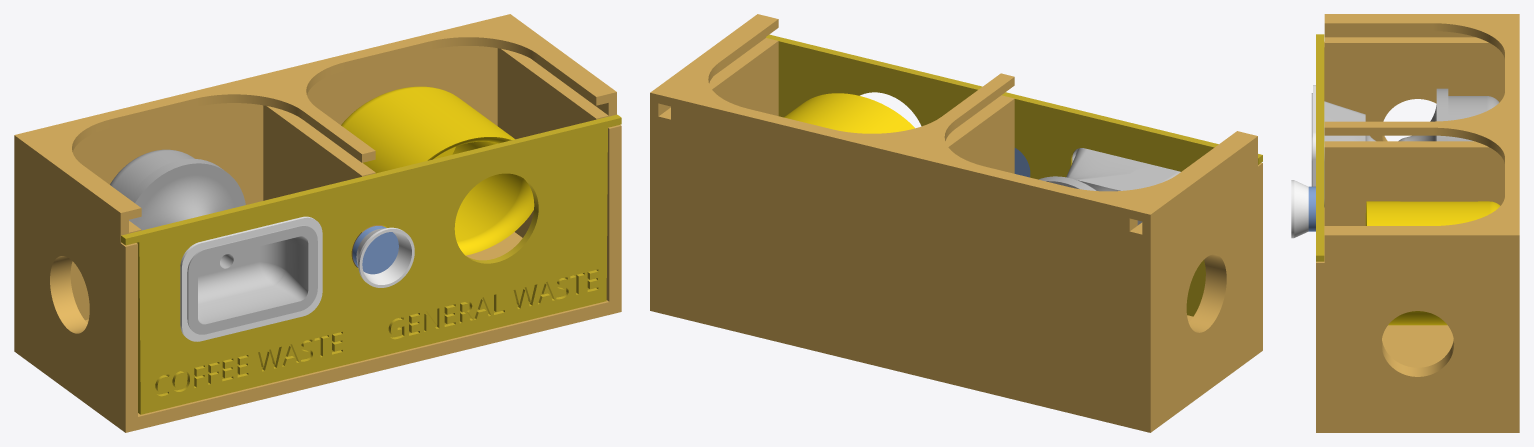
Rendered from BenneDosa_test.gltf.
The picture shows the model from 3 angles, left to right: view 1: azimuth 30°, elevation 25°; view 2: azimuth 150°, elevation 25°; view 3: azimuth 270°, elevation 25°; orthographic projection. The views are drawn at different scales.
Visible parts, largest first — view 1: benne_base, top_surface_V3, dustbin_general, sink_v3, coffee_dustbin_lid, Part 6, Part 5, coffee_dustbin_base_v2, Part 4; view 2: benne_base, top_surface_V3, dustbin_general, sink_v3; view 3: benne_base, dustbin_general, top_surface_V3, sink_v3, coffee_dustbin_base_v2, Part 5, coffee_dustbin_lid, Part 4, Part 6.
Part boxes in pixels (left/top/right/bottom): benne_base: left=14, top=14, right=621, bottom=432; top_surface_V3: left=121, top=114, right=621, bottom=414; dustbin_general: left=341, top=86, right=534, bottom=255; sink_v3: left=187, top=225, right=317, bottom=334; coffee_dustbin_lid: left=129, top=158, right=245, bottom=230; Part 6: left=180, top=216, right=322, bottom=341; Part 5: left=356, top=227, right=414, bottom=287; coffee_dustbin_base_v2: left=110, top=149, right=194, bottom=198; Part 4: left=352, top=226, right=398, bottom=274; benne_base: left=650, top=14, right=1262, bottom=432; top_surface_V3: left=766, top=34, right=1262, bottom=316; dustbin_general: left=784, top=93, right=914, bottom=133; sink_v3: left=1066, top=148, right=1180, bottom=225; benne_base: left=1316, top=14, right=1519, bottom=432; dustbin_general: left=1365, top=201, right=1499, bottom=325; top_surface_V3: left=1316, top=34, right=1324, bottom=261; sink_v3: left=1311, top=93, right=1375, bottom=207; coffee_dustbin_base_v2: left=1448, top=96, right=1499, bottom=141; Part 5: left=1291, top=180, right=1308, bottom=238; coffee_dustbin_lid: left=1398, top=88, right=1448, bottom=141; Part 4: left=1308, top=186, right=1315, bottom=231; Part 6: left=1313, top=85, right=1315, bottom=186.
Size of the model in its own units: 0.18 by 0.075 by 0.0785.
